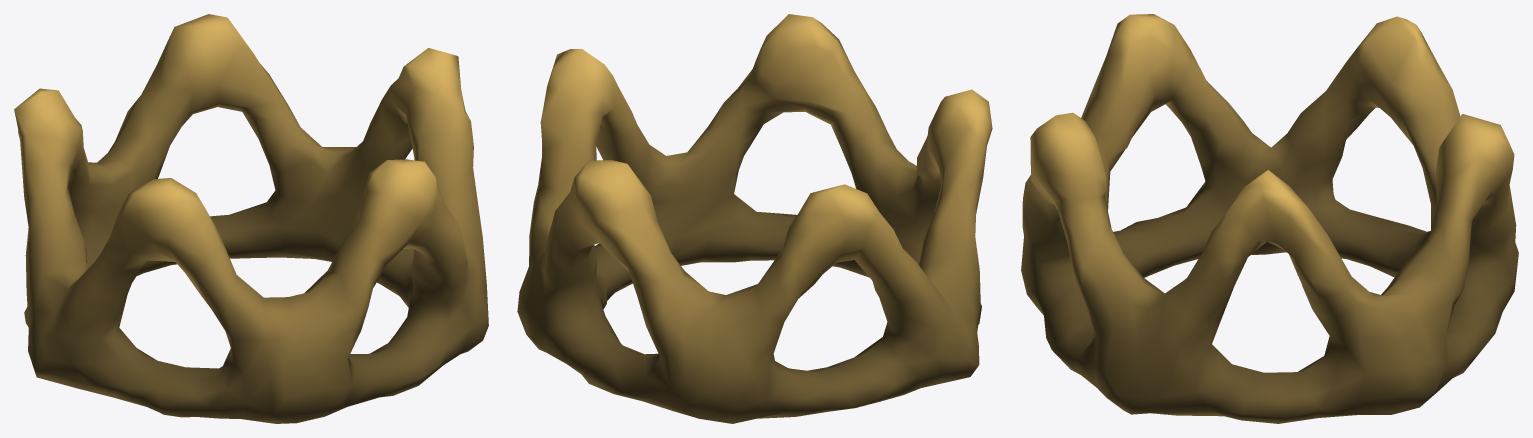
Rendered from Crown.fbx.
3 views of the same model, side by side, from view 1: azimuth 30°, elevation 25°; view 2: azimuth 150°, elevation 25°; view 3: azimuth 270°, elevation 25° (orthographic). The views are drawn at different scales.
Visible parts, largest first — view 1: crown; view 2: crown; view 3: crown.
Part boxes in pixels (x1,y1,x2,y2): crown: [14, 14, 488, 423]; crown: [517, 14, 992, 423]; crown: [1021, 14, 1518, 423].
Size of the model in its own units: 2.11 by 1.17 by 2.06.
